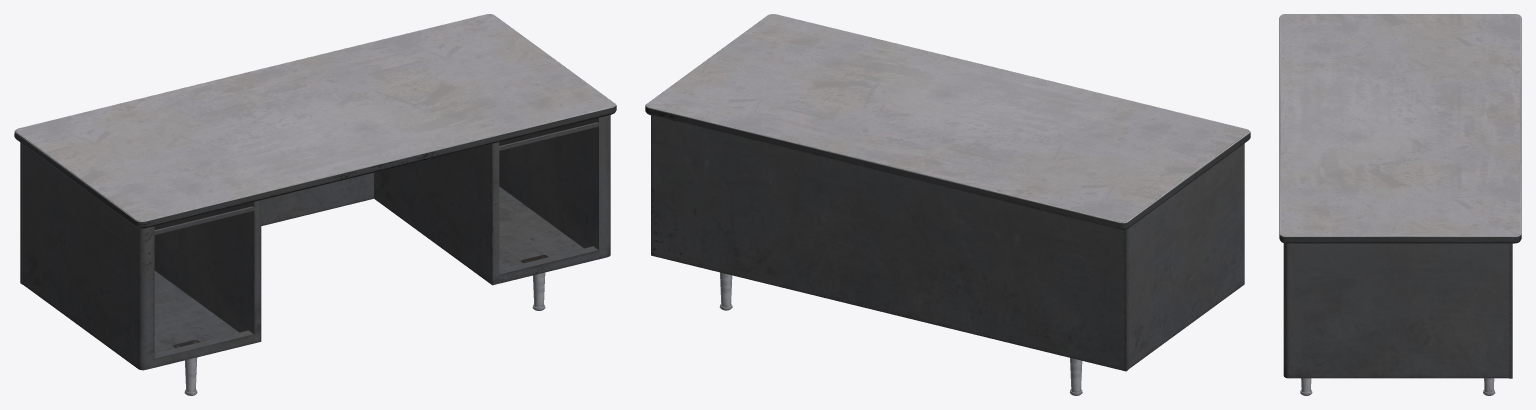
File: metal_office_desk.glb
3 renders of one model, left to right at view 1: azimuth 30°, elevation 25°; view 2: azimuth 150°, elevation 25°; view 3: azimuth 270°, elevation 25°, orthographic. The views are drawn at different scales.
Visible parts, largest first — view 1: metal_office_desk; view 2: metal_office_desk; view 3: metal_office_desk.
Part boxes in pixels (x1=…): metal_office_desk: x1=14, y1=14, x2=616, y2=395; metal_office_desk: x1=645, y1=14, x2=1250, y2=395; metal_office_desk: x1=1279, y1=14, x2=1521, y2=395.
Size of what is drawn, in the model's own units: 2 by 0.7875 by 0.9171.
1 material, 1 textured.
